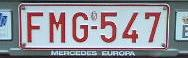-: (91, 26, 97, 29)
4: (123, 11, 138, 43)
5: (101, 12, 116, 43)
7: (145, 11, 161, 42)
F: (26, 12, 43, 43)
G: (72, 11, 88, 43)
M: (49, 12, 65, 43)
